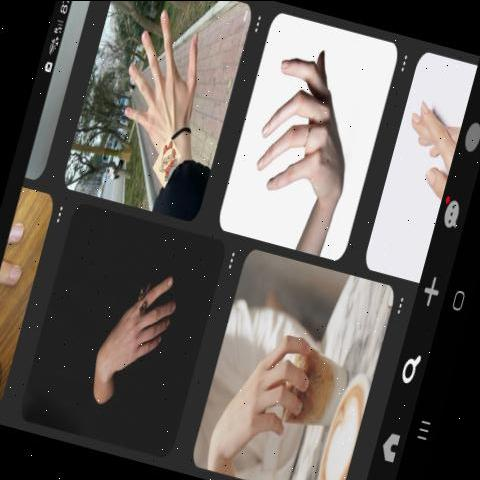Hands: (200, 305, 356, 465), (96, 4, 232, 186), (239, 37, 371, 223), (70, 240, 188, 408)
